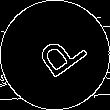P_SW: (24, 25, 86, 85)
